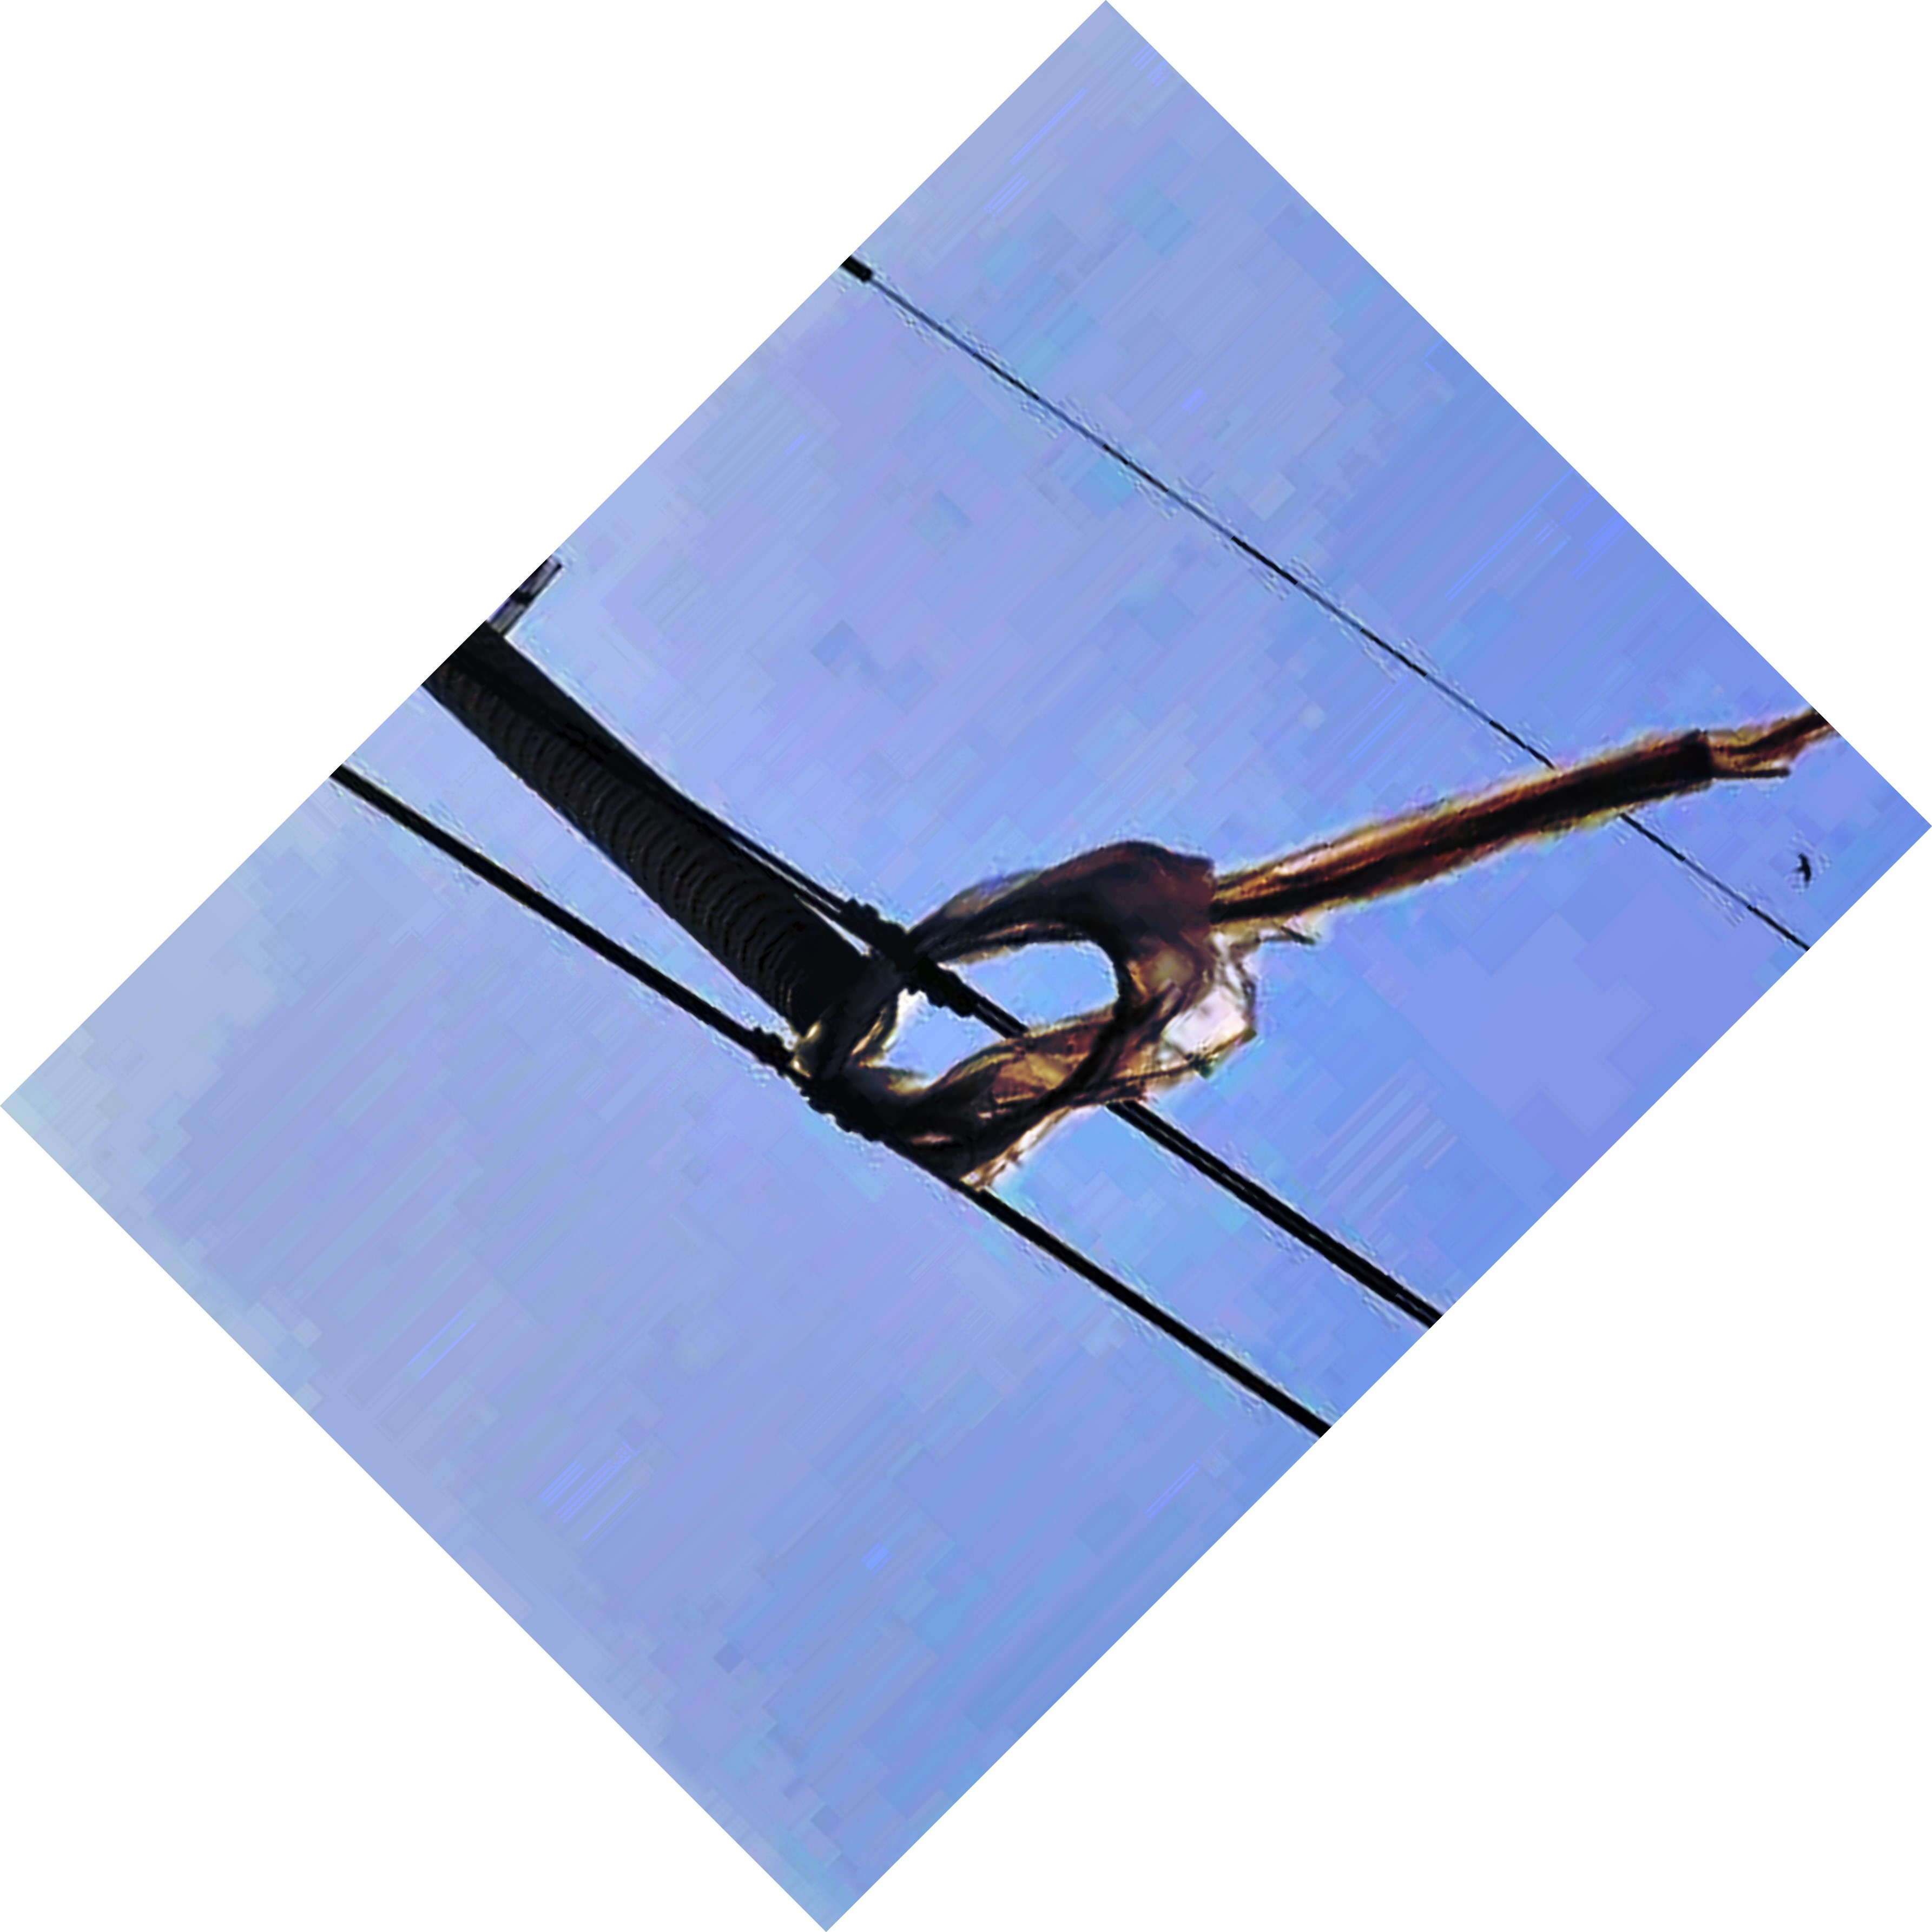wire foreign body: (773, 672, 1755, 1233)
